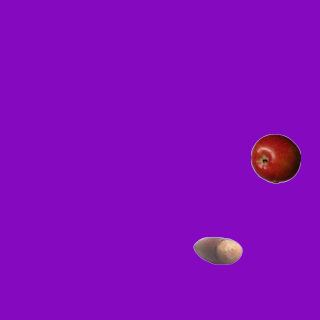Apple Braeburn: (250, 133, 300, 183)
Hazelnut: (192, 225, 242, 275)
